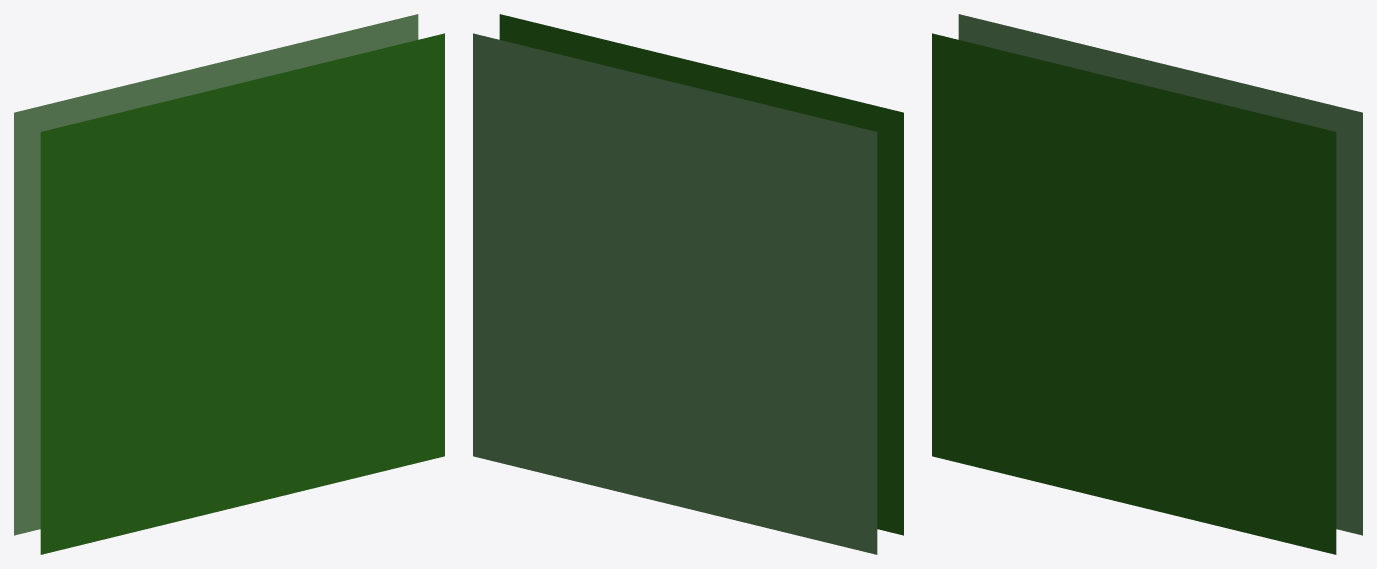
Rendered from a2_1_M_block.fbx.
3 renders of one model, left to right at view 1: azimuth 30°, elevation 25°; view 2: azimuth 150°, elevation 25°; view 3: azimuth 330°, elevation 25°, orthographic.
Visible parts, largest first — view 1: polySurface291; view 2: polySurface291; view 3: polySurface291.
Part boxes in pixels (left/top/right/bottom): polySurface291: left=14, top=14, right=444, bottom=554; polySurface291: left=473, top=14, right=903, bottom=554; polySurface291: left=932, top=14, right=1362, bottom=554.
Bounding box in the file's own units: 1 × 1 × 0.1135.
